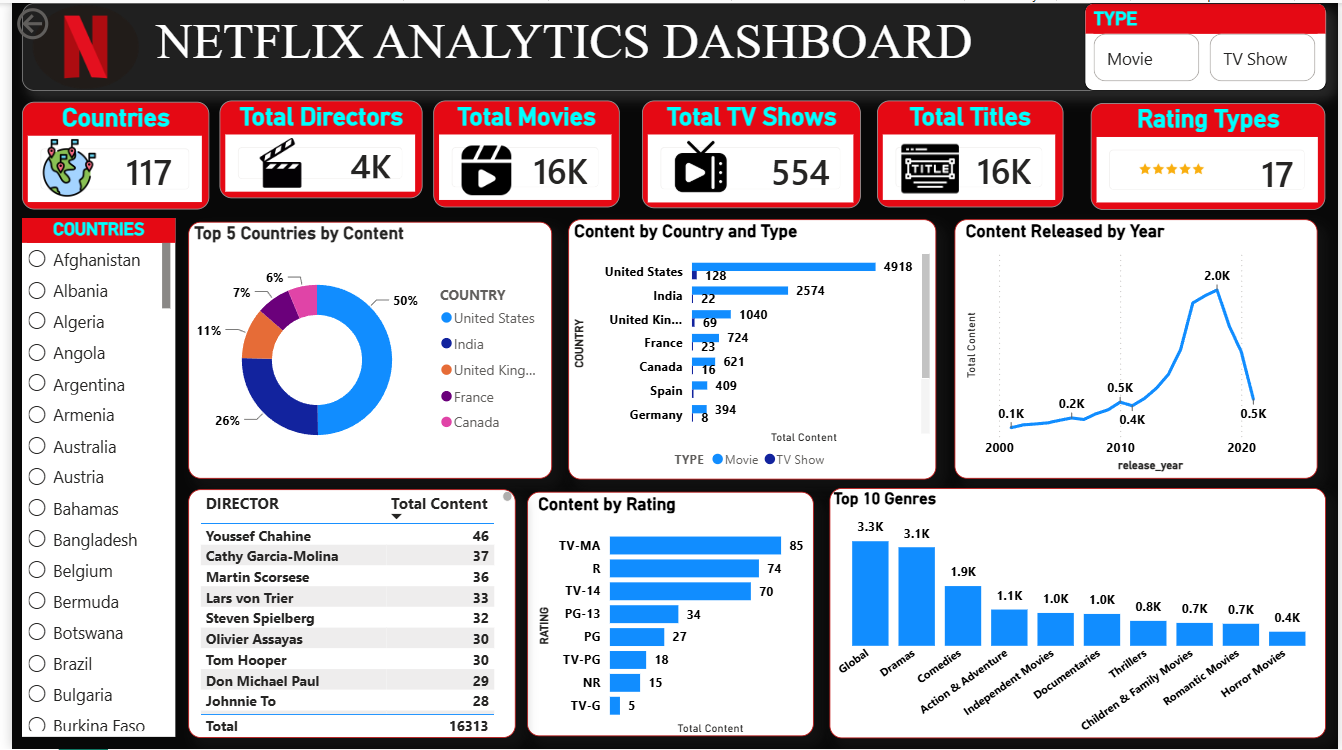

Layout of this report page (visuals, bound fields, positions):
{"tool":"powerbi","page":{"name":"Page 1","canvas":[1280,720],"ordinal":0},"visuals":[{"type":"textbox","box":[10,0,1259,85],"z":0},{"type":"image","box":[9.6,0,123.5,85.1],"z":1000},{"type":"cardVisual","title":"Countries","fields":{"Data":["netflix_cleaned.Total Countries"]},"box":[10,95,181,104],"z":2000},{"type":"cardVisual","title":"Total Directors","fields":{"Data":["netflix_cleaned.Total Directors"]},"box":[200.3,94.7,196.2,94.7],"z":3000},{"type":"cardVisual","title":"Total  TV Shows","fields":{"Data":["netflix_cleaned.Total TV Shows"]},"box":[607.9,94.7,211.3,104.3],"z":4000},{"type":"cardVisual","title":"Total Titles","fields":{"Data":["netflix_cleaned.total_titles"]},"box":[834.3,94.7,179.8,102.9],"z":5000},{"type":"cardVisual","title":"Total Movies","fields":{"Data":["netflix_cleaned.Total Movies"]},"box":[406.2,94.7,179.8,102.9],"z":6000},{"type":"cardVisual","title":"Rating Types","fields":{"Data":["netflix_cleaned.Total Rating Categories"]},"box":[1041.5,96.1,226.4,102.9],"z":7000},{"type":"image","box":[220.9,130.4,76.8,48],"z":8000},{"type":"image","box":[26.1,130.4,57.6,57.6],"z":9000},{"type":"image","box":[607.9,123.5,113.9,70],"z":10000},{"type":"image","box":[849.4,130.4,74.1,59],"z":11000},{"type":"image","box":[430.9,137.2,54.9,48],"z":12000},{"type":"image","box":[1058,130.4,122.1,63.1],"z":13000},{"type":"donutChart","title":"Top 5 Countries by Content","fields":{"Category":["netflix_cleaned.country"],"Y":["CountNonNull(netflix_cleaned.show_id)"]},"box":[170.2,211.3,351.3,248.4],"z":14000},{"type":"clusteredBarChart","title":"Content by Country and Type","fields":{"Y":["netflix_cleaned.total_titles"],"Series":["netflix_cleaned.type"],"Category":["netflix_cleaned.country"]},"box":[537,209,355,251],"z":15000},{"type":"actionButton","box":[0,0,100,40],"z":16000},{"type":"listSlicer","title":"COUNTRIES","fields":{"Values":["netflix_cleaned.COUNTRY"]},"box":[9.6,207.2,148.2,500.9],"z":17000},{"type":"lineChart","title":"Content Released by Year","fields":{"Category":["netflix_cleaned.release_year"],"Y":["netflix_cleaned.total_titles"]},"box":[909.8,208.6,350,250],"z":18000},{"type":"barChart","title":"Content by Rating","fields":{"Y":["netflix_cleaned.total_titles"],"Category":["netflix_cleaned.RATING"]},"box":[496.7,472,277.2,236],"z":19000},{"type":"columnChart","title":"Top 10 Genres","fields":{"Y":["netflix_cleaned.total_titles"],"Series":["netflix_cleaned.TYPE"],"Category":["netflix_cleaned.listed_in"]},"box":[789,467.9,478.9,241.5],"z":20000},{"type":"advancedSlicerVisual","fields":{"Values":["netflix_cleaned.TYPE"]},"box":[1034.7,0,233.3,85.1],"z":21000},{"type":"tableEx","fields":{"Values":["netflix_cleaned.DIRECTOR","netflix_cleaned.total_titles"]},"box":[170.2,469.3,315.6,240.1],"z":22000}]}

Visuals, with their boxes in screenshot pixels (x1, y1, x2, y2), scaled from the page's 1280x720 canvas onto the 1342x750 screenshot:
textbox: region(10, 0, 1330, 89)
image: region(10, 0, 140, 89)
"Countries" cardVisual: region(10, 99, 200, 207)
"Total Directors" cardVisual: region(210, 99, 416, 197)
"Total  TV Shows" cardVisual: region(637, 99, 859, 207)
"Total Titles" cardVisual: region(875, 99, 1063, 206)
"Total Movies" cardVisual: region(426, 99, 614, 206)
"Rating Types" cardVisual: region(1092, 100, 1329, 207)
image: region(232, 136, 312, 186)
image: region(27, 136, 88, 196)
image: region(637, 129, 757, 202)
image: region(891, 136, 968, 197)
image: region(452, 143, 509, 193)
image: region(1109, 136, 1237, 202)
"Top 5 Countries by Content" donutChart: region(178, 220, 547, 479)
"Content by Country and Type" clusteredBarChart: region(563, 218, 935, 479)
actionButton: region(0, 0, 105, 42)
"COUNTRIES" listSlicer: region(10, 216, 165, 738)
"Content Released by Year" lineChart: region(954, 217, 1321, 478)
"Content by Rating" barChart: region(521, 492, 811, 738)
"Top 10 Genres" columnChart: region(827, 487, 1329, 739)
advancedSlicerVisual - netflix_cleaned.TYPE: region(1085, 0, 1329, 89)
tableEx - netflix_cleaned.DIRECTOR x netflix_cleaned.total_titles: region(178, 489, 509, 739)
